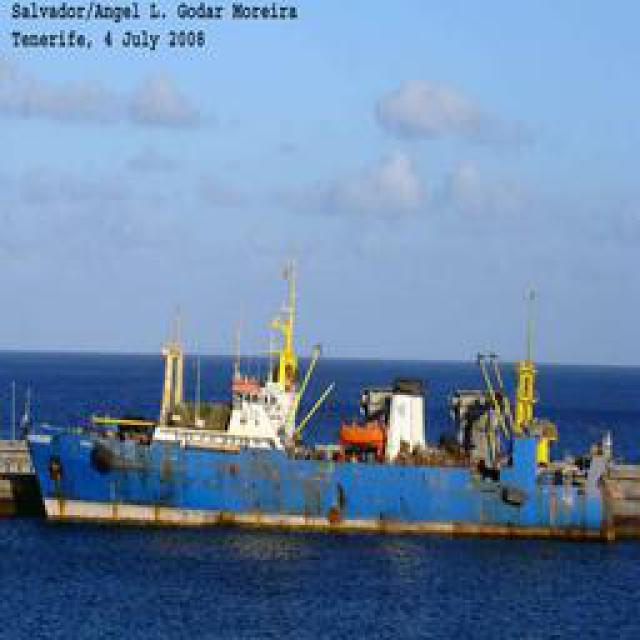Ship: (20, 345, 633, 548)
